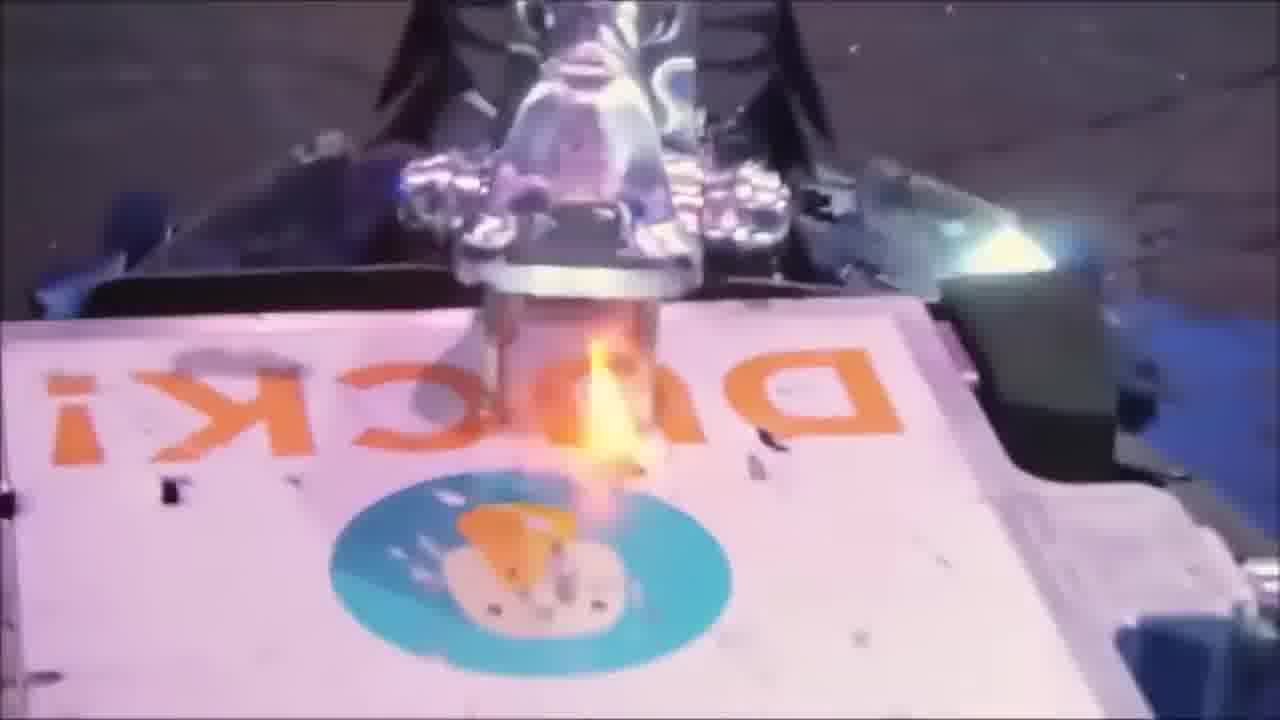combatbot: (3, 313, 1277, 717), (43, 8, 1062, 311)
